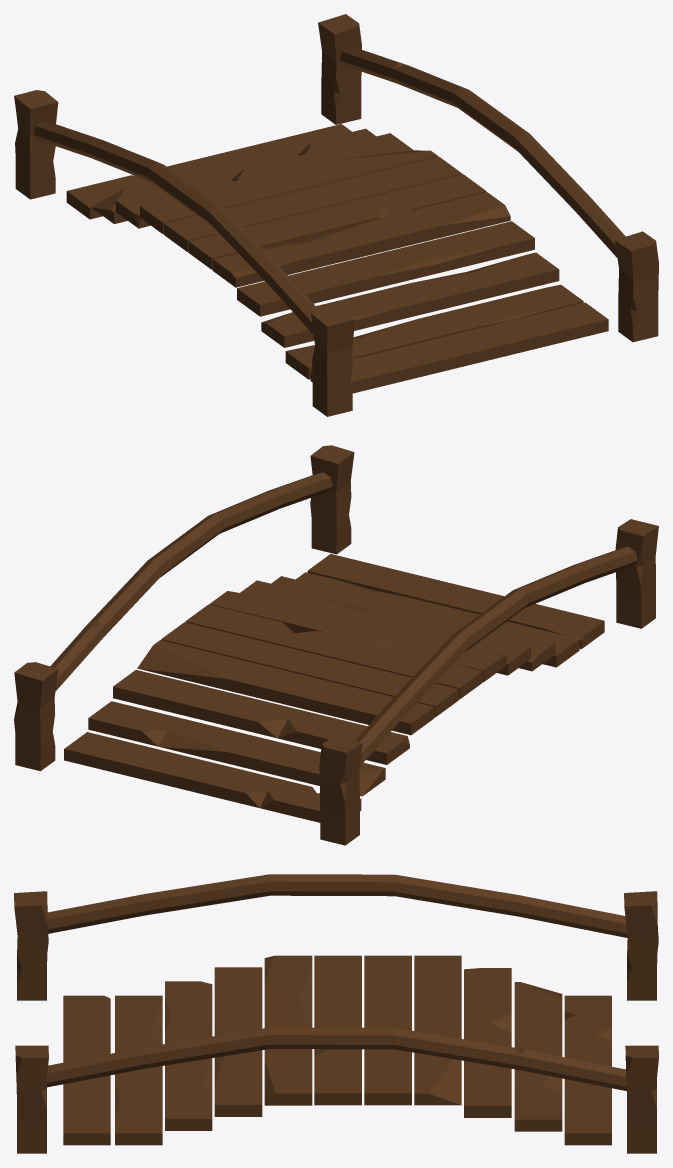
Rendered from BRIDGE.fbx.
3 renders of one model, top to bottom at view 1: azimuth 30°, elevation 25°; view 2: azimuth 150°, elevation 25°; view 3: azimuth 270°, elevation 25°, orthographic. The views are drawn at different scales.
Parts seen in each view (by area): view 1: Cube.097; view 2: Cube.097; view 3: Cube.097.
Part boxes in pixels (x1,y1,x2,y2): Cube.097: (14, 14, 658, 416); Cube.097: (14, 445, 658, 845); Cube.097: (14, 874, 658, 1153).
Size of the model in its own units: 792 by 276 by 1289.
